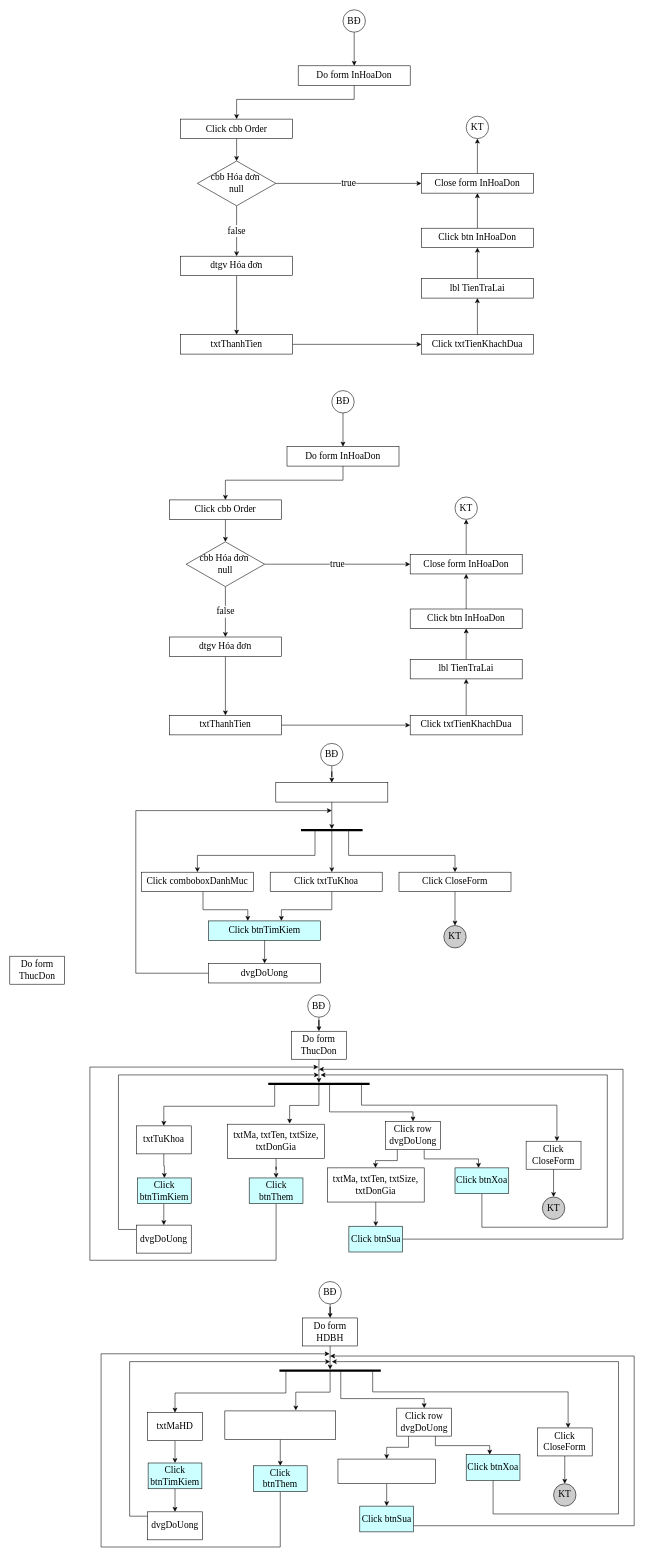
Image size: 648x1561. Some labels were removed from this diagram. The shapes that lost their labels are listed below. From the top down, each one's centre as x and y in pixels, then its label:
At (x=331, y=792): "Do form TKDoUong".
At (x=280, y=1424): "Nhập thông tin khách hàng và thông tin đồ uống".
At (x=386, y=1471): "Sửa thông tin đồ uống".
